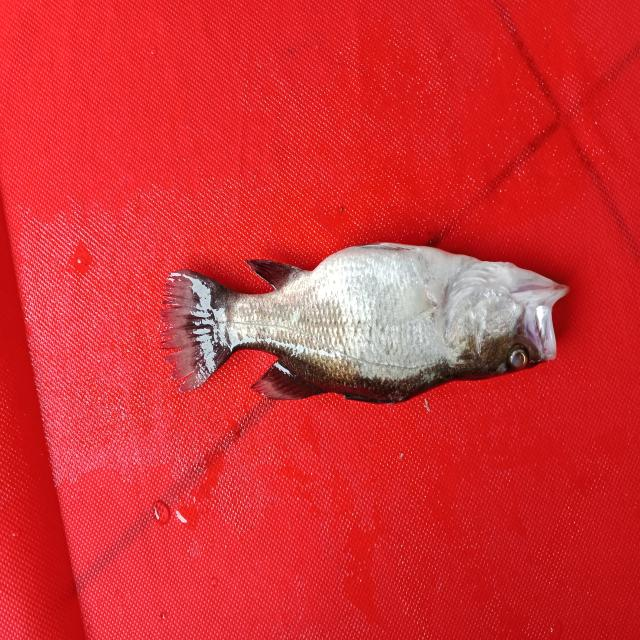ikan: (148, 221, 588, 431)
